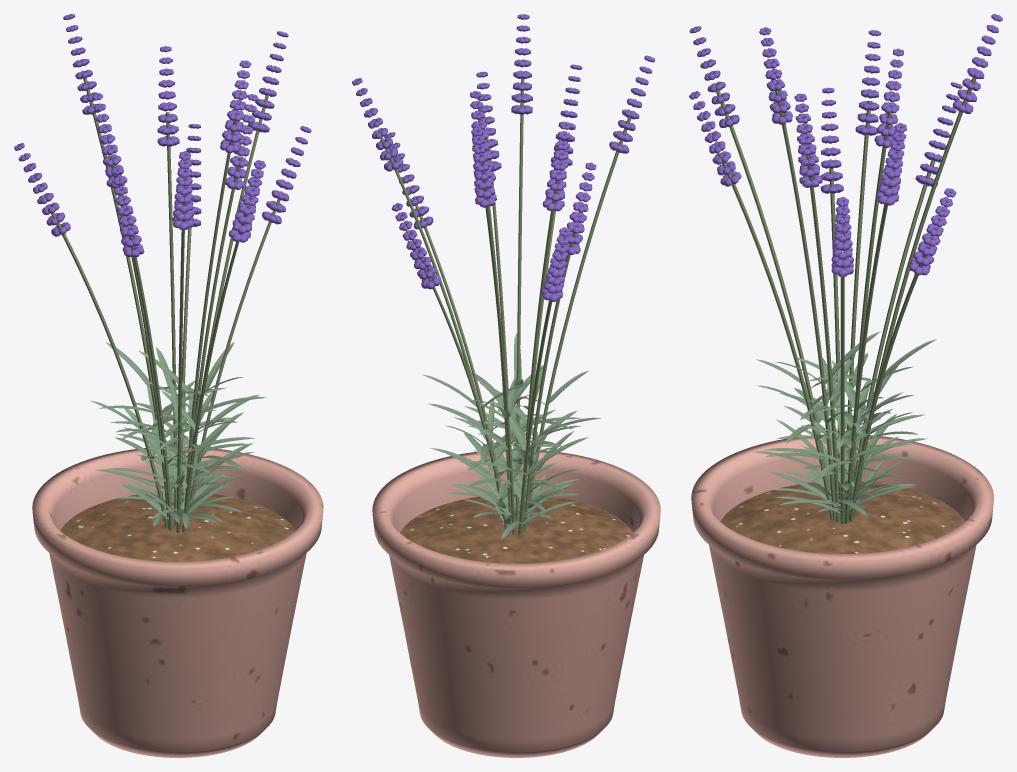
The model's file is lavender.glb.
3 views of the same model, side by side, from view 1: azimuth 30°, elevation 25°; view 2: azimuth 150°, elevation 25°; view 3: azimuth 270°, elevation 25° (orthographic). The views are drawn at different scales.
Parts seen in each view (by area): view 1: piece-0, piece-110, piece-1, piece-38, piece-20, piece-92, piece-65, piece-101, piece-47, piece-11, piece-83, piece-2 (+3 smaller); view 2: piece-0, piece-110, piece-1, piece-83, piece-56, piece-29, piece-11, piece-38, piece-74, piece-92, piece-65, piece-2 (+3 smaller); view 3: piece-0, piece-110, piece-1, piece-47, piece-29, piece-74, piece-2, piece-92, piece-20, piece-101, piece-56, piece-83 (+3 smaller).
Part boxes in pixels (x1=…): piece-0: x1=32, y1=446, x2=323, y2=757; piece-110: x1=51, y1=78, x2=280, y2=532; piece-1: x1=60, y1=491, x2=295, y2=561; piece-38: x1=111, y1=167, x2=144, y2=257; piece-20: x1=228, y1=160, x2=265, y2=242; piece-92: x1=220, y1=60, x2=251, y2=152; piece-65: x1=172, y1=151, x2=194, y2=230; piece-101: x1=157, y1=46, x2=179, y2=146; piece-47: x1=225, y1=94, x2=258, y2=189; piece-11: x1=14, y1=143, x2=70, y2=236; piece-83: x1=92, y1=93, x2=127, y2=188; piece-2: x1=262, y1=126, x2=311, y2=224; piece-0: x1=372, y1=449, x2=660, y2=757; piece-110: x1=380, y1=78, x2=630, y2=535; piece-1: x1=400, y1=494, x2=632, y2=563; piece-83: x1=542, y1=121, x2=571, y2=211; piece-56: x1=471, y1=127, x2=496, y2=207; piece-29: x1=391, y1=203, x2=440, y2=289; piece-11: x1=541, y1=227, x2=570, y2=301; piece-38: x1=561, y1=162, x2=596, y2=254; piece-74: x1=352, y1=78, x2=403, y2=171; piece-92: x1=511, y1=14, x2=532, y2=114; piece-65: x1=609, y1=55, x2=655, y2=153; piece-2: x1=384, y1=132, x2=433, y2=229; piece-0: x1=691, y1=435, x2=993, y2=757; piece-110: x1=716, y1=77, x2=975, y2=524; piece-1: x1=720, y1=481, x2=964, y2=553; piece-47: x1=794, y1=93, x2=822, y2=187; piece-29: x1=909, y1=188, x2=956, y2=275; piece-74: x1=876, y1=123, x2=906, y2=205; piece-2: x1=831, y1=197, x2=853, y2=277; piece-92: x1=759, y1=27, x2=792, y2=124; piece-20: x1=689, y1=91, x2=741, y2=186; piece-101: x1=874, y1=48, x2=903, y2=147; piece-56: x1=952, y1=14, x2=1002, y2=113; piece-83: x1=855, y1=30, x2=881, y2=135.
Size of the model in its own units: 0.1715 by 0.4216 by 0.1699.
Materials: 5 (3 with a texture image).
